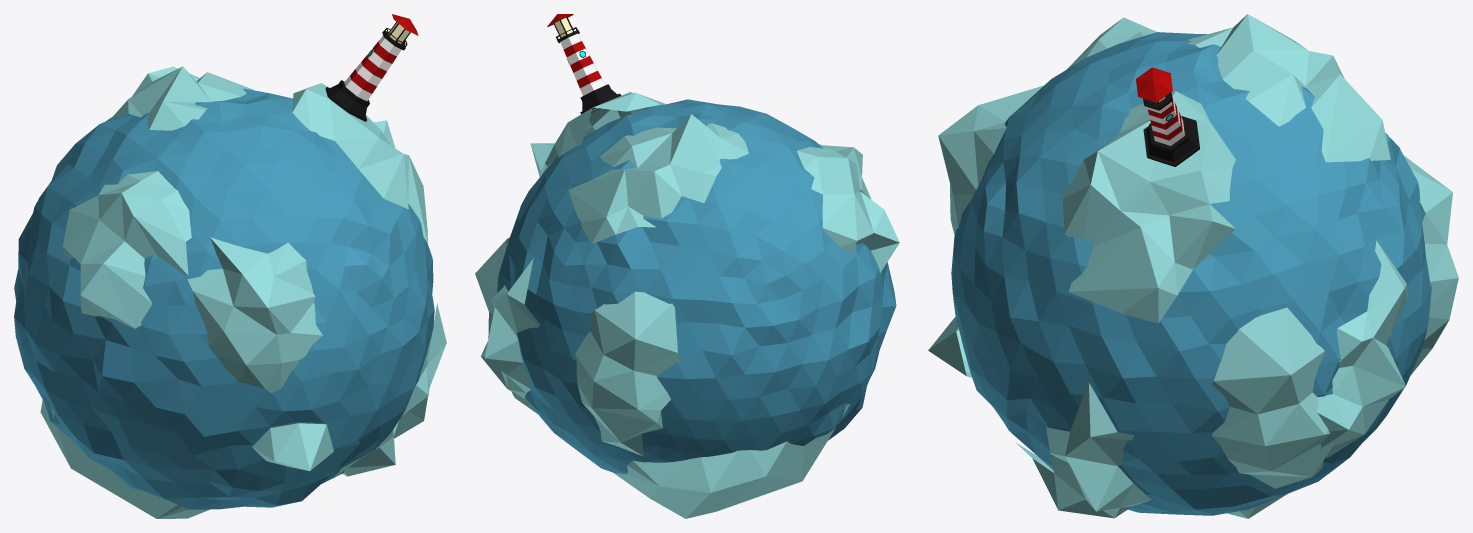
File: ice_planet.glb
The picture shows the model from 3 angles, left to right: view 1: azimuth 30°, elevation 25°; view 2: azimuth 150°, elevation 25°; view 3: azimuth 270°, elevation 25°; orthographic projection. The views are drawn at different scales.
Parts seen in each view (by area): view 1: IcePlanet; view 2: IcePlanet; view 3: IcePlanet.
Part boxes in pixels (x1,y1,x2,y2): IcePlanet: (14, 14, 446, 518); IcePlanet: (475, 14, 899, 518); IcePlanet: (928, 14, 1458, 518).
Size of the model in its own units: 2.06 by 2.44 by 2.16.
3 materials, 1 textured.
